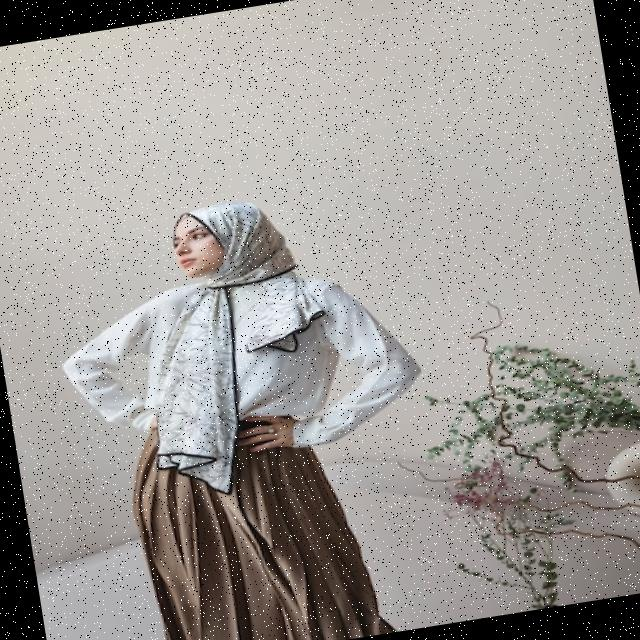Person: (40, 174, 458, 640)
